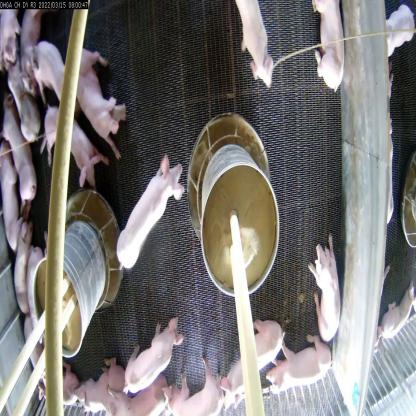Pig: (118, 155, 185, 266), (214, 316, 284, 401), (67, 36, 121, 144), (40, 98, 104, 189), (123, 317, 184, 396), (229, 0, 279, 88), (306, 236, 342, 346), (306, 0, 348, 93), (268, 336, 334, 394), (101, 362, 171, 415), (0, 102, 34, 200), (166, 362, 228, 415), (26, 35, 73, 104), (66, 370, 125, 415), (10, 213, 31, 307)
